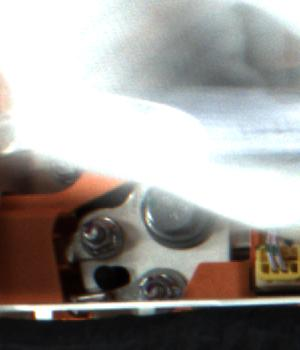screw_s: (136, 266, 184, 299), (83, 215, 123, 254)
